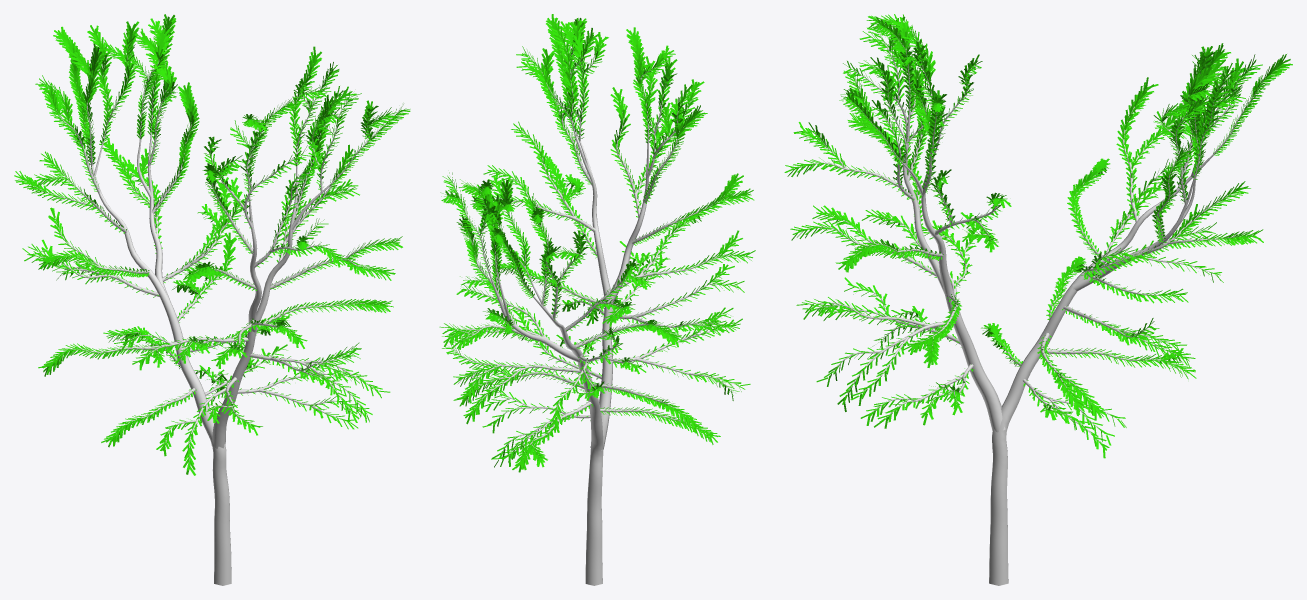
File: Stablo.fbx
3 views of the same model, side by side, from view 1: azimuth 30°, elevation 25°; view 2: azimuth 150°, elevation 25°; view 3: azimuth 270°, elevation 25° (orthographic). The views are drawn at different scales.
Visible parts, largest first — view 1: tree; view 2: tree; view 3: tree.
Part boxes in pixels (left/top/right/bottom): tree: left=14, top=14, right=410, bottom=585; tree: left=439, top=14, right=755, bottom=585; tree: left=784, top=14, right=1292, bottom=585.
Bounding box in the file's own units: 496 × 887 × 706.
